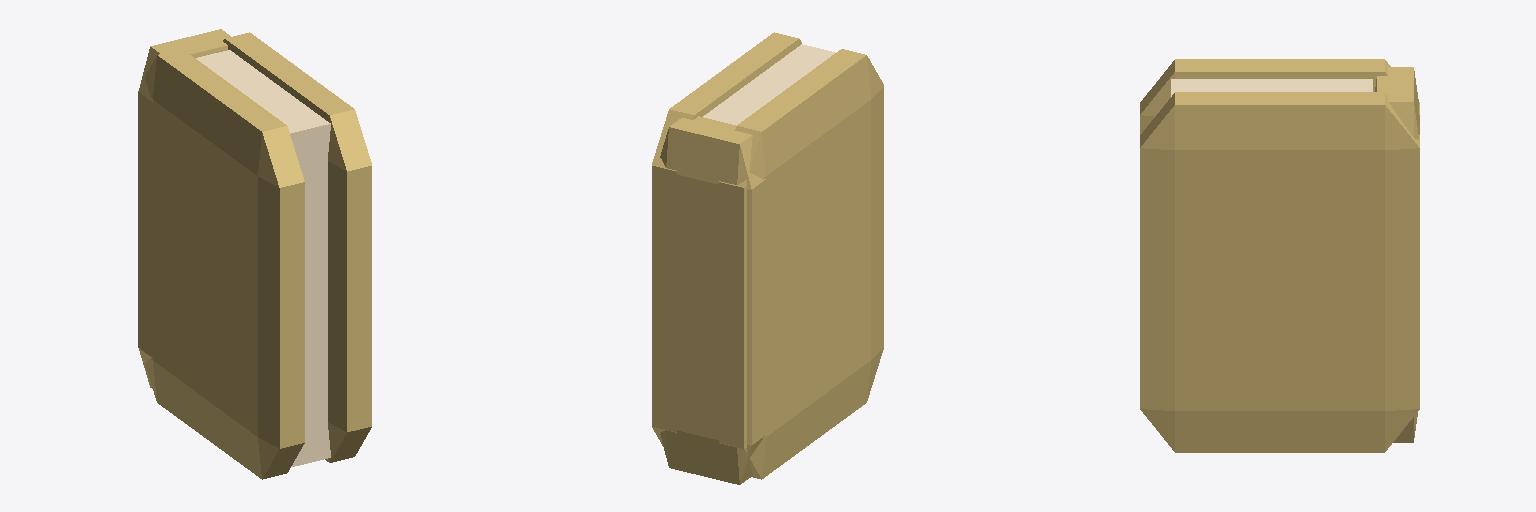
The model's file is Book4.obj.
3 renders of one model, left to right at view 1: azimuth 30°, elevation 25°; view 2: azimuth 150°, elevation 25°; view 3: azimuth 270°, elevation 25°, orthographic.
Visible parts, largest first — view 1: mergedBlocks; view 2: mergedBlocks; view 3: mergedBlocks.
Part boxes in pixels (bbox=[...]): mergedBlocks: bbox=[138, 29, 371, 479]; mergedBlocks: bbox=[652, 32, 883, 484]; mergedBlocks: bbox=[1140, 59, 1419, 452].
Bounding box in the file's own units: 0.09 × 0.2952 × 0.2155.